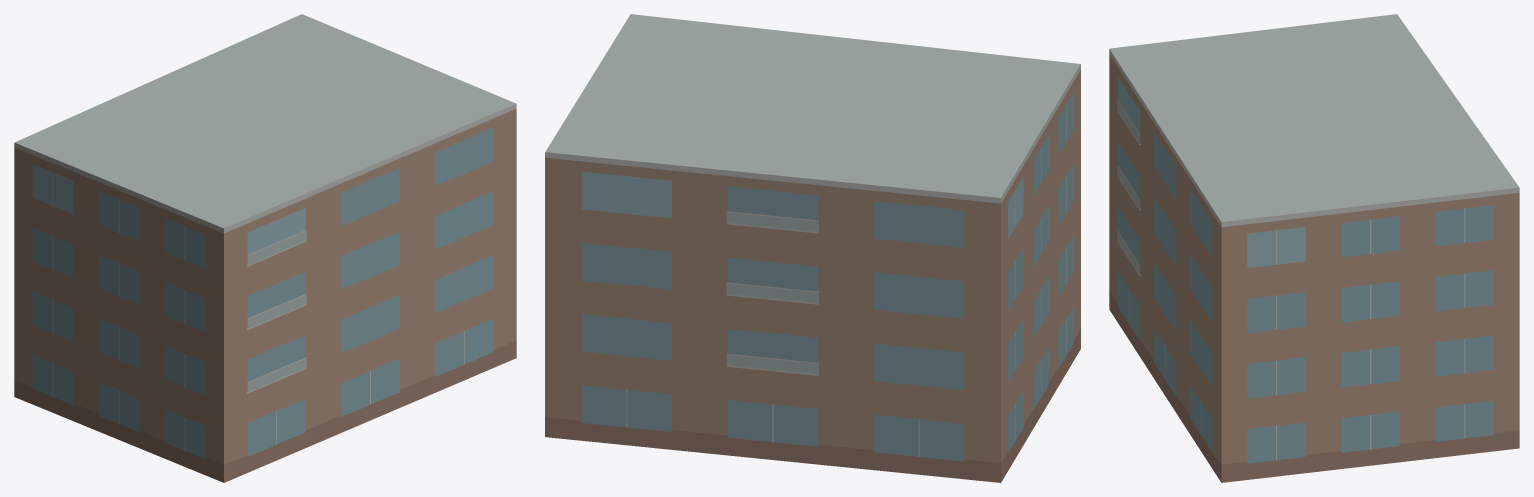
File: survey-upis-32524186.glb
3 renders of one model, left to right at view 1: azimuth 30°, elevation 25°; view 2: azimuth 150°, elevation 25°; view 3: azimuth 270°, elevation 25°, orthographic. The views are drawn at different scales.
Visible parts, largest first — view 1: survey-upis-32524186.tmp; view 2: survey-upis-32524186.tmp; view 3: survey-upis-32524186.tmp.
Boxes of the visible parts, <box> form: survey-upis-32524186.tmp: <box>14,14,516,482</box>; survey-upis-32524186.tmp: <box>545,14,1080,482</box>; survey-upis-32524186.tmp: <box>1109,14,1519,482</box>.
Bounding box in the file's own units: 21.25 × 12.4 × 17.7.
